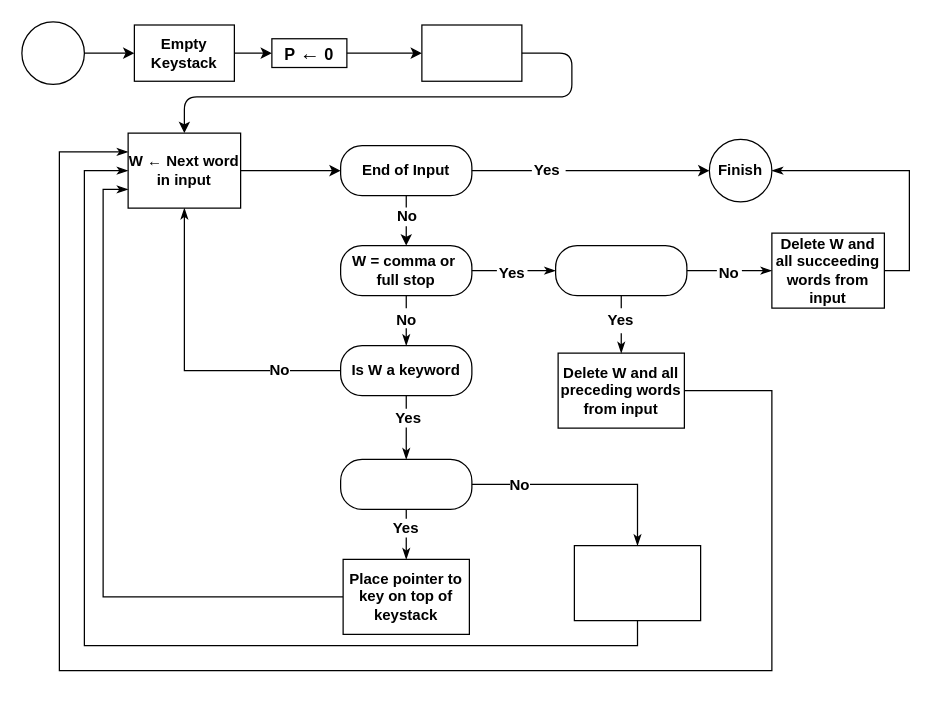
The diagram is 941 pixels wide and 703 high, and some of its shapes have lost their labels. The shapes that lost their labels are listed below. From the top down, each one's box as (x1, y1, x2, y2) in pixels, then its label:
(21, 21, 84, 84): Begin
(421, 24, 522, 81): Read Input
(554, 244, 687, 296): Keystack empty
(339, 458, 472, 509): Is precedence of key > P
(573, 544, 701, 621): Place pointer to key on bottom of keystack
